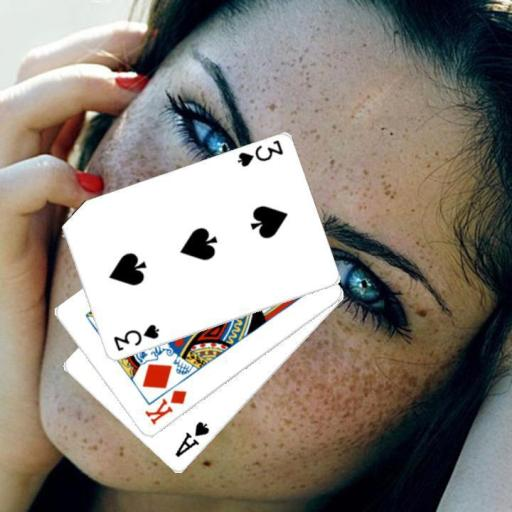card-corner: (142, 387, 188, 427), (110, 322, 161, 354), (172, 419, 212, 459), (234, 137, 284, 169)
